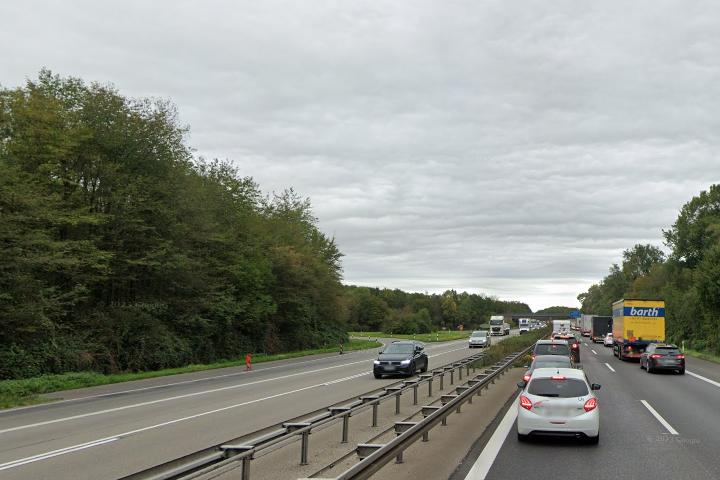vehicle: (512, 364, 605, 443), (609, 298, 670, 360), (370, 340, 431, 379), (637, 341, 688, 374), (486, 314, 510, 336), (467, 329, 492, 348), (517, 316, 532, 337)
